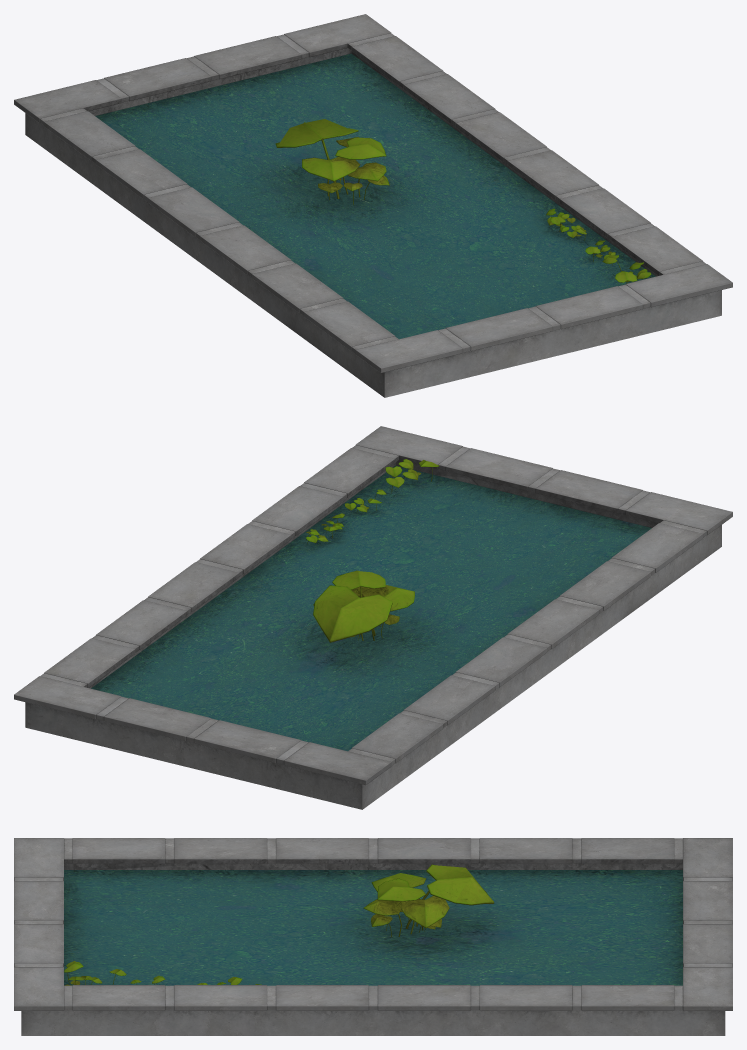
File: backyard_pond_v1.fbx
3 renders of one model, top to bottom at view 1: azimuth 30°, elevation 25°; view 2: azimuth 150°, elevation 25°; view 3: azimuth 270°, elevation 25°, orthographic. The views are drawn at different scales.
Parts seen in each view (by area): view 1: BackyardPond_V1_water, BackyardPond_V1_base, BackyardPond_V1_plants; view 2: BackyardPond_V1_water, BackyardPond_V1_base, BackyardPond_V1_plants; view 3: BackyardPond_V1_base, BackyardPond_V1_water, BackyardPond_V1_plants.
Boxes of the visible parts, box(x1,y1,x2,y2) form: BackyardPond_V1_water: box(95, 53, 655, 339); BackyardPond_V1_base: box(14, 14, 732, 397); BackyardPond_V1_plants: box(275, 119, 651, 283); BackyardPond_V1_water: box(91, 465, 651, 751); BackyardPond_V1_base: box(14, 426, 732, 809); BackyardPond_V1_plants: box(306, 459, 439, 642); BackyardPond_V1_base: box(14, 838, 732, 1035); BackyardPond_V1_water: box(64, 870, 682, 985); BackyardPond_V1_plants: box(64, 864, 494, 985).
Bounding box in the file's own units: 390 × 87.62 × 704.
Materials: 1 (1 with a texture image).
